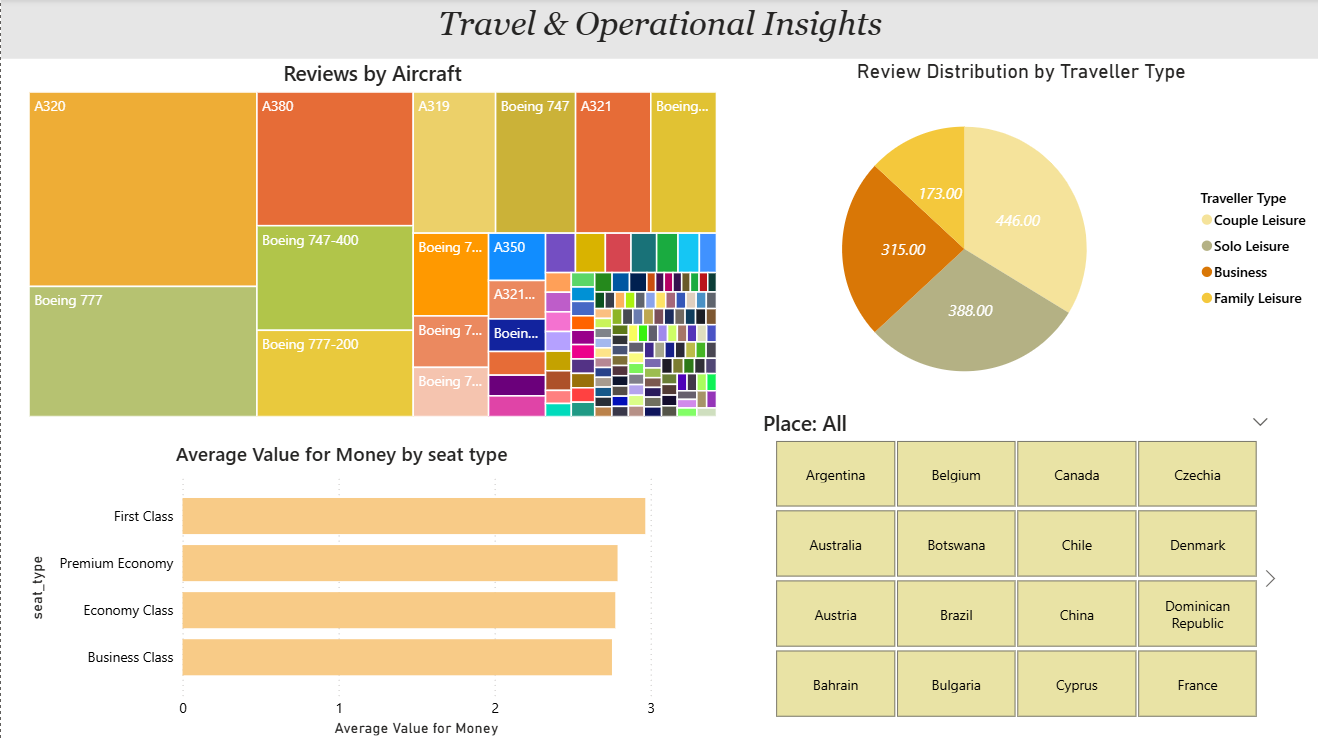

Layout of this report page (visuals, bound fields, positions):
{"tool":"powerbi","page":{"name":"Travel & Operational Insights","canvas":[1280,720],"ordinal":2},"visuals":[{"type":"treemap","title":"Reviews by Aircraft","fields":{"Group":["ba_reviews_cleaned.aircraft"],"Values":["ba_reviews_cleaned.Total Reviews"]},"box":[22.4,58,677.1,351.6],"z":0},{"type":"barChart","title":"Average Value for Money by seat type","fields":{"Category":["ba_reviews_cleaned.seat_type"],"Y":["ba_reviews_cleaned.Average Value for Money"]},"box":[22.4,428.3,617.2,291.8],"z":1000},{"type":"pieChart","title":"Review Distribution by Traveller Type","fields":{"Category":["ba_reviews_cleaned.traveller_type"],"Y":["ba_reviews_cleaned.Total Reviews"]},"box":[699.5,58,579.8,351.6],"z":2000},{"type":"slicer","fields":{"Values":["ba_reviews_cleaned.place"]},"box":[725.7,392.8,516.2,310.5],"z":3000},{"type":"textbox","box":[0,0,1279.4,58],"z":4000}]}

Visuals, with their boxes in screenshot pixels (x1, y1, x2, y2), scaled from the page's 1280x720 canvas onto the 1318x740 screenshot:
"Reviews by Aircraft" treemap: pyautogui.locateOnScreen(23, 60, 720, 421)
"Average Value for Money by seat type" barChart: pyautogui.locateOnScreen(23, 440, 659, 739)
"Review Distribution by Traveller Type" pieChart: pyautogui.locateOnScreen(720, 60, 1317, 421)
slicer - ba_reviews_cleaned.place: pyautogui.locateOnScreen(747, 404, 1279, 723)
textbox: pyautogui.locateOnScreen(0, 0, 1317, 60)
